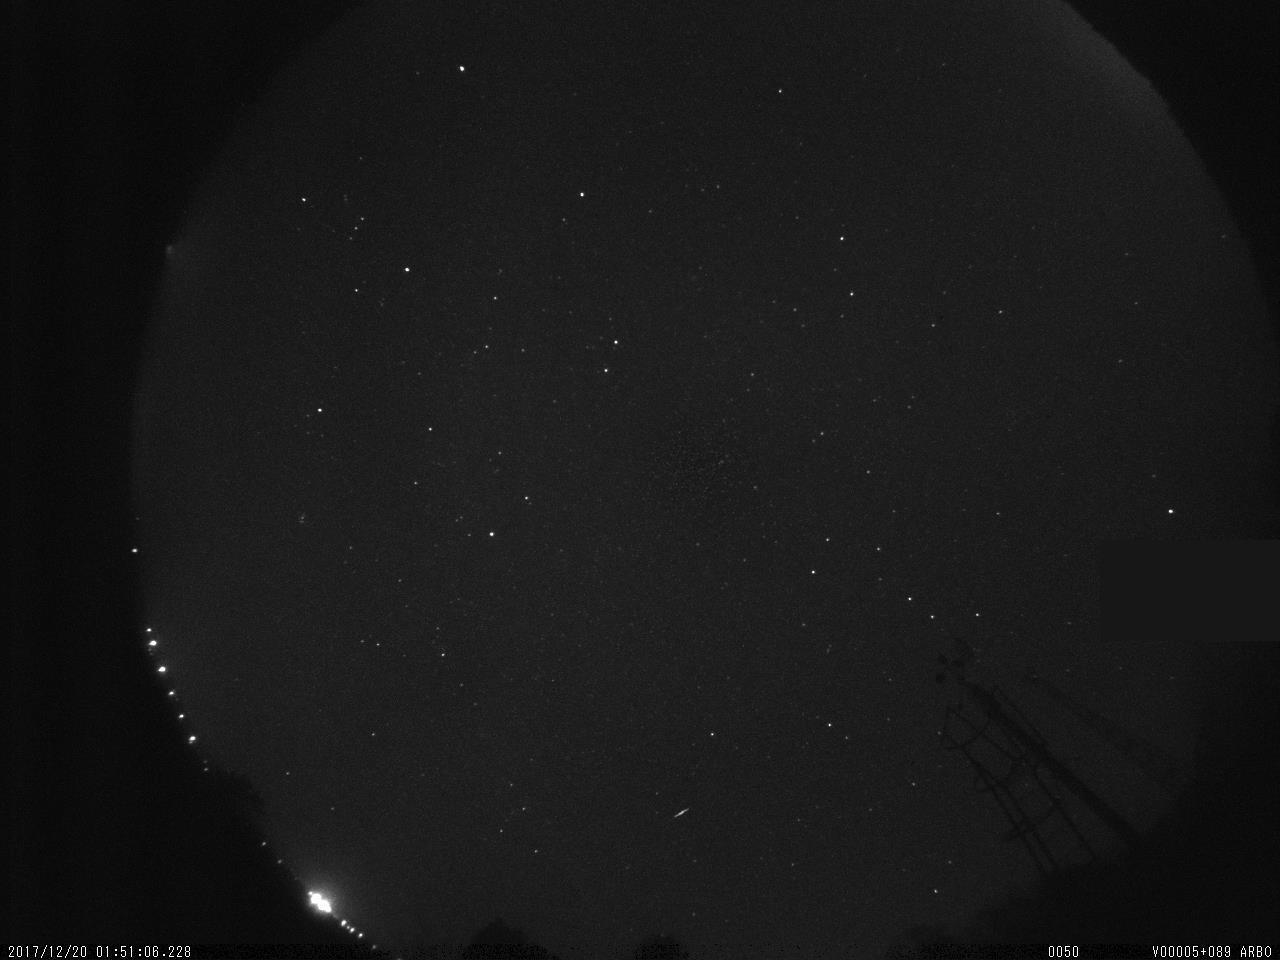meteor: (669, 800, 698, 828)
